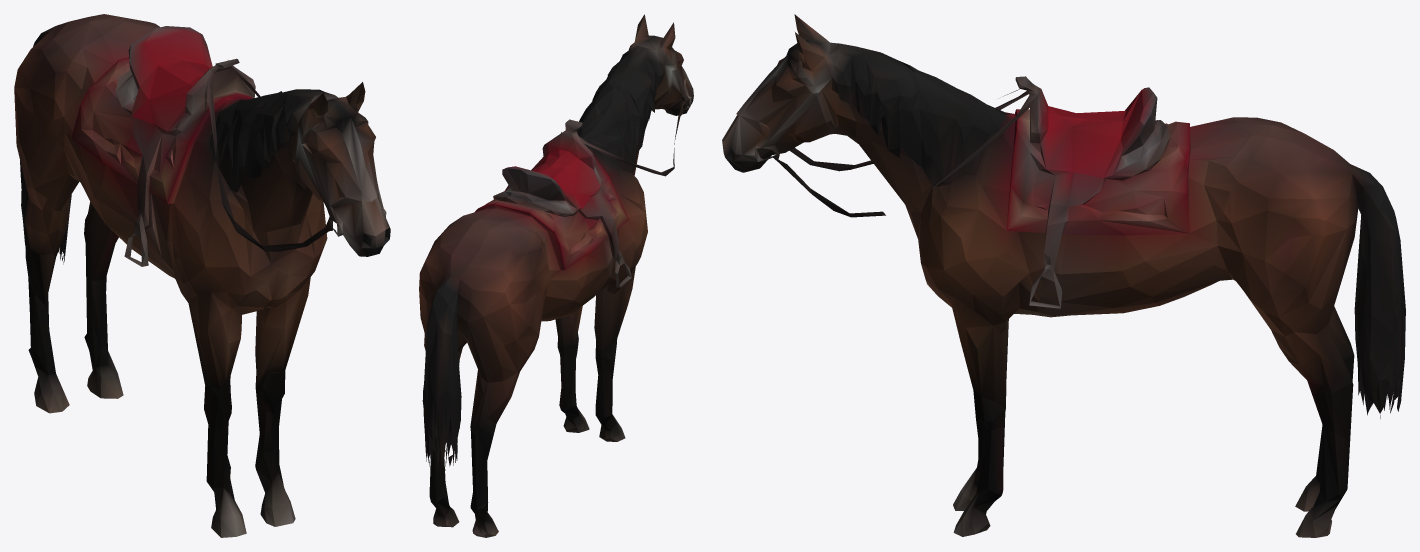
The model's file is R_horse_lo.glb.
The picture shows the model from 3 angles, left to right: view 1: azimuth 30°, elevation 25°; view 2: azimuth 150°, elevation 25°; view 3: azimuth 270°, elevation 25°; orthographic projection. The views are drawn at different scales.
Parts seen in each view (by area): view 1: Mesh_0; view 2: Mesh_0; view 3: Mesh_0.
Boxes of the visible parts, box(x1,y1,x2,y2) form: Mesh_0: box(14, 14, 390, 537); Mesh_0: box(419, 14, 693, 537); Mesh_0: box(722, 14, 1405, 537).
Size of the model in its own units: 0.5221 by 1.53 by 1.89.
